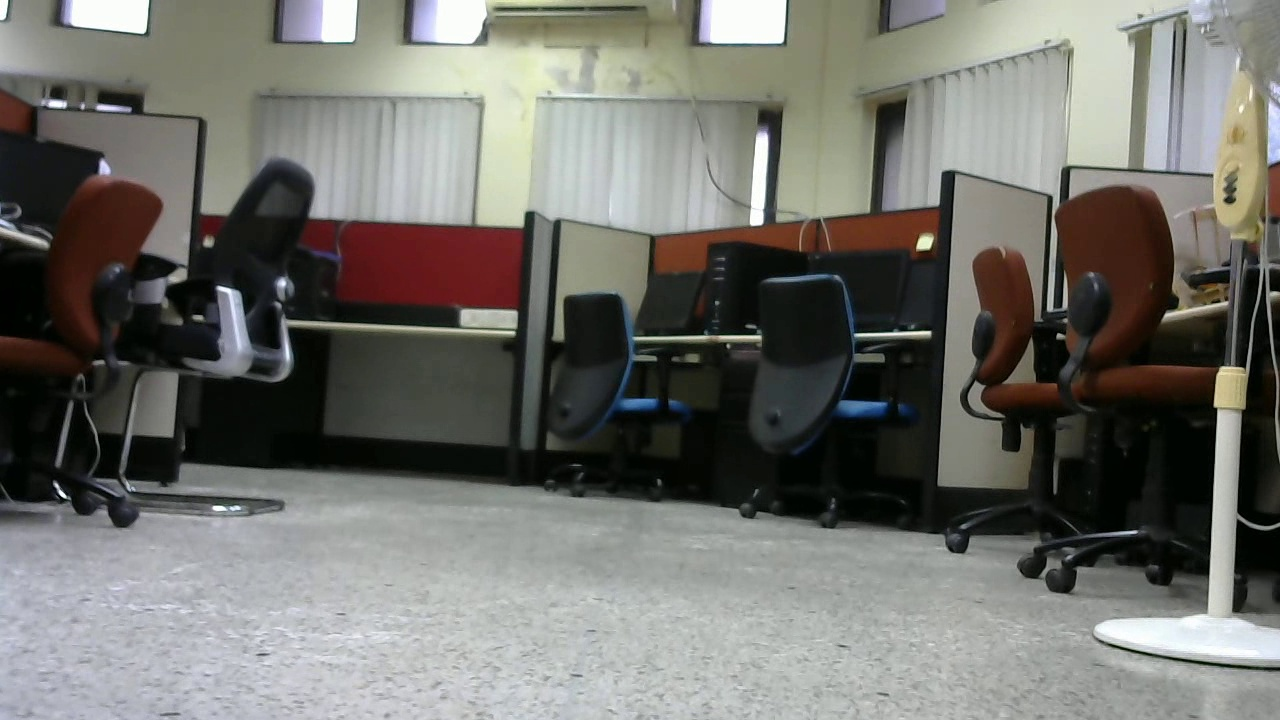chair: (1031, 184, 1280, 598), (164, 156, 320, 524), (8, 180, 167, 523), (948, 247, 1097, 569), (733, 268, 916, 529), (529, 289, 707, 508)
